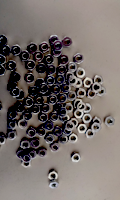nut: (25, 73, 36, 84), (49, 35, 60, 46), (62, 37, 73, 48), (71, 152, 82, 163), (48, 170, 59, 181), (105, 116, 116, 127), (10, 87, 21, 98), (67, 91, 78, 102), (51, 84, 62, 95), (45, 75, 56, 86), (57, 65, 68, 76), (67, 62, 78, 73), (76, 68, 87, 79), (76, 88, 87, 99), (37, 63, 47, 75), (39, 83, 49, 95), (67, 76, 79, 86), (0, 46, 11, 56), (12, 45, 22, 56), (20, 51, 31, 61), (28, 43, 38, 54), (26, 60, 36, 71), (11, 72, 21, 83), (34, 51, 44, 62), (40, 42, 50, 53), (53, 41, 64, 51), (52, 47, 63, 57), (45, 55, 55, 66), (7, 130, 17, 141), (27, 127, 37, 138), (7, 120, 18, 130), (15, 103, 25, 114), (23, 111, 33, 122), (38, 148, 48, 159), (50, 143, 61, 153), (38, 113, 49, 123), (24, 97, 34, 108), (41, 103, 51, 114), (65, 121, 75, 132), (58, 108, 69, 118), (77, 124, 88, 134), (74, 109, 85, 119), (35, 95, 45, 106), (57, 94, 68, 104), (55, 75, 66, 85), (65, 71, 75, 82), (59, 55, 69, 66), (74, 54, 84, 65), (51, 85, 62, 95), (74, 78, 84, 89), (92, 83, 102, 94), (7, 61, 17, 71), (8, 110, 18, 120), (18, 119, 28, 129), (17, 150, 27, 160), (30, 139, 40, 149), (45, 134, 55, 144), (59, 135, 69, 145), (45, 121, 55, 131), (37, 127, 47, 137), (31, 105, 41, 115), (83, 114, 93, 124), (86, 129, 96, 139), (92, 123, 102, 133), (77, 102, 87, 112), (29, 87, 39, 97), (49, 95, 59, 105), (36, 79, 46, 89), (47, 65, 57, 75), (87, 89, 97, 99), (84, 78, 94, 88), (94, 76, 104, 86), (61, 84, 71, 94), (50, 112, 59, 123), (49, 180, 59, 189), (22, 154, 32, 163), (21, 140, 30, 150), (54, 127, 63, 137), (69, 134, 78, 144), (60, 115, 70, 124), (65, 103, 74, 113), (70, 118, 79, 128), (83, 104, 93, 113), (93, 117, 102, 127), (74, 99, 83, 109), (54, 103, 63, 113), (8, 82, 17, 92), (17, 90, 26, 100), (98, 87, 107, 97), (0, 35, 8, 46), (22, 159, 31, 168), (43, 88, 52, 97), (63, 128, 73, 136), (29, 150, 37, 159), (0, 135, 7, 145), (0, 66, 6, 76), (0, 55, 6, 65), (0, 102, 3, 113)
